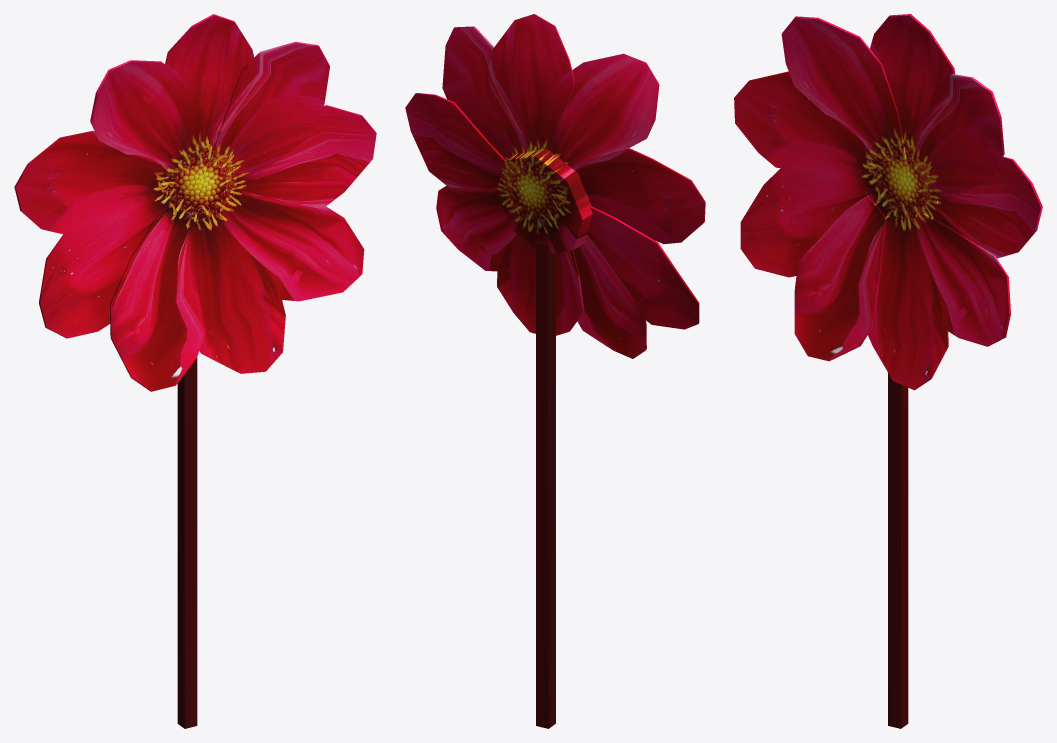
The model's file is bloem.fbx.
3 views of the same model, side by side, from view 1: azimuth 30°, elevation 25°; view 2: azimuth 150°, elevation 25°; view 3: azimuth 330°, elevation 25° (orthographic). The views are drawn at different scales.
Parts seen in each view (by area): view 1: pCube12; view 2: pCube12; view 3: pCube12.
Part boxes in pixels (x1,y1,x2,y2): pCube12: [14, 14, 376, 728]; pCube12: [405, 14, 705, 728]; pCube12: [734, 14, 1042, 728].
Bounding box in the file's own units: 9.1 × 18.56 × 2.17.
